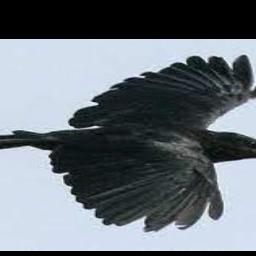Crow: (0, 56, 256, 233)
